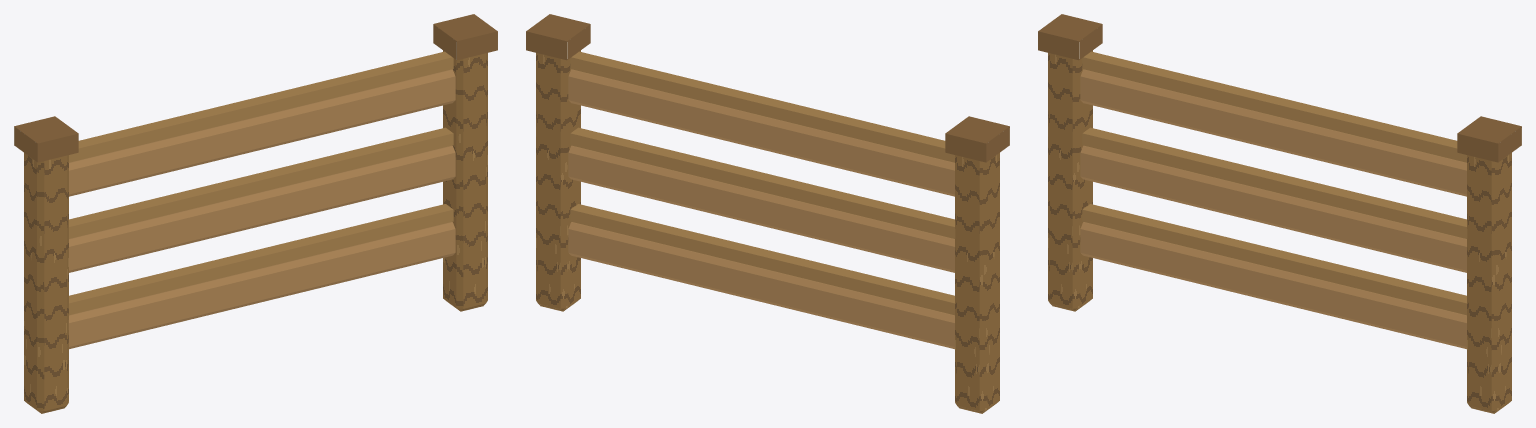
File: fence.glb
The picture shows the model from 3 angles, left to right: view 1: azimuth 30°, elevation 25°; view 2: azimuth 150°, elevation 25°; view 3: azimuth 330°, elevation 25°; orthographic projection.
Visible parts, largest first — view 1: Fence; view 2: Fence; view 3: Fence.
Part boxes in pixels (box(x1,y1,x2,y2)): Fence: box(14, 14, 497, 413); Fence: box(526, 14, 1009, 413); Fence: box(1038, 14, 1521, 413).
Size of the model in its own units: 2.02 by 1.16 by 0.18.
Materials: 1 (1 with a texture image).
